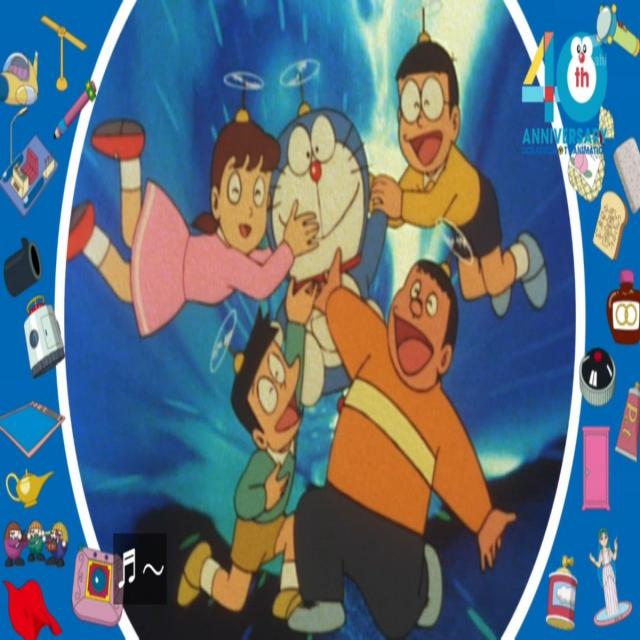doraemon: (264, 96, 373, 285)
jaian: (384, 243, 463, 394)
nobita: (391, 31, 463, 179)
shizuka: (197, 110, 276, 257)
suneo: (227, 305, 307, 457)
